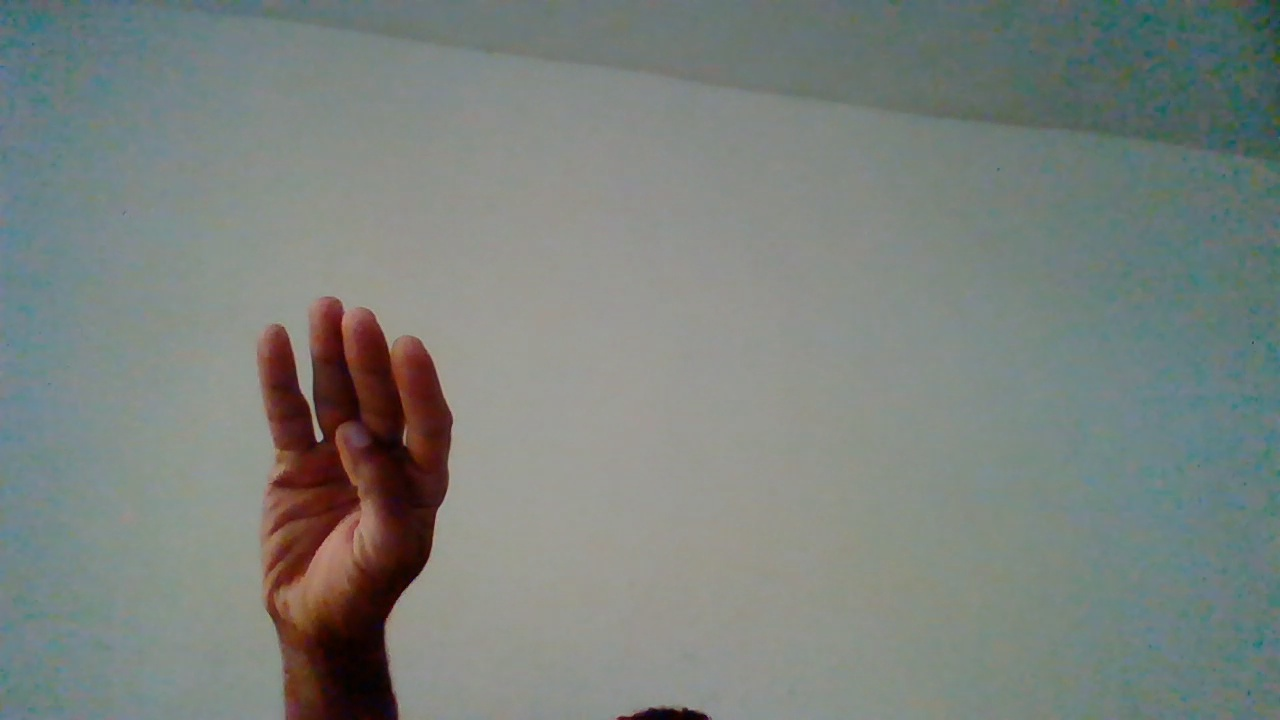me: (256, 293, 456, 710)
